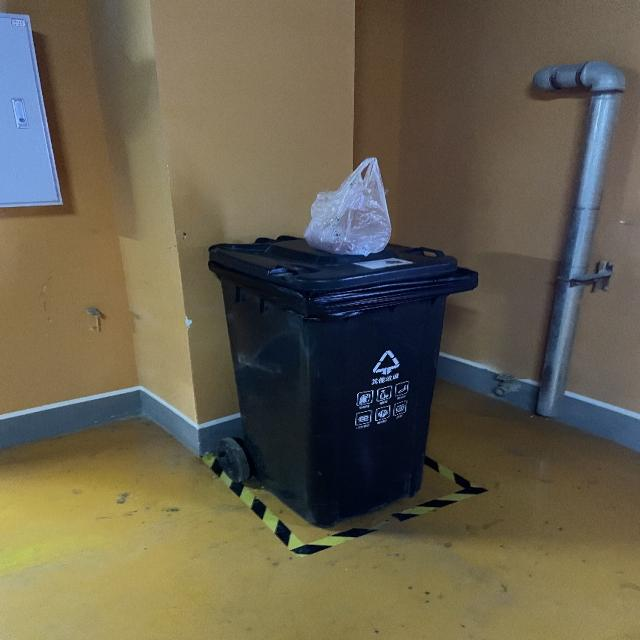overflow: (208, 153, 477, 527)
